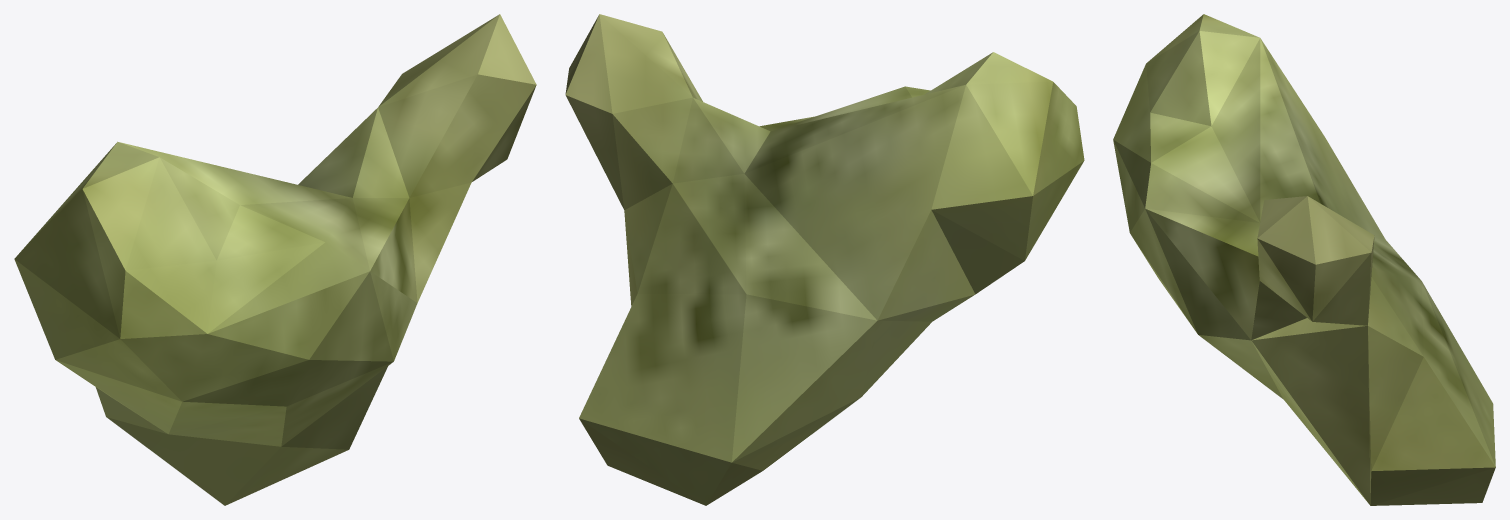
3 renders of one model, left to right at view 1: azimuth 30°, elevation 25°; view 2: azimuth 150°, elevation 25°; view 3: azimuth 270°, elevation 25°, orthographic. The views are drawn at different scales.
Size of the model in its own units: 0.3491 by 0.2918 by 0.2665.
1 material, 1 textured.
